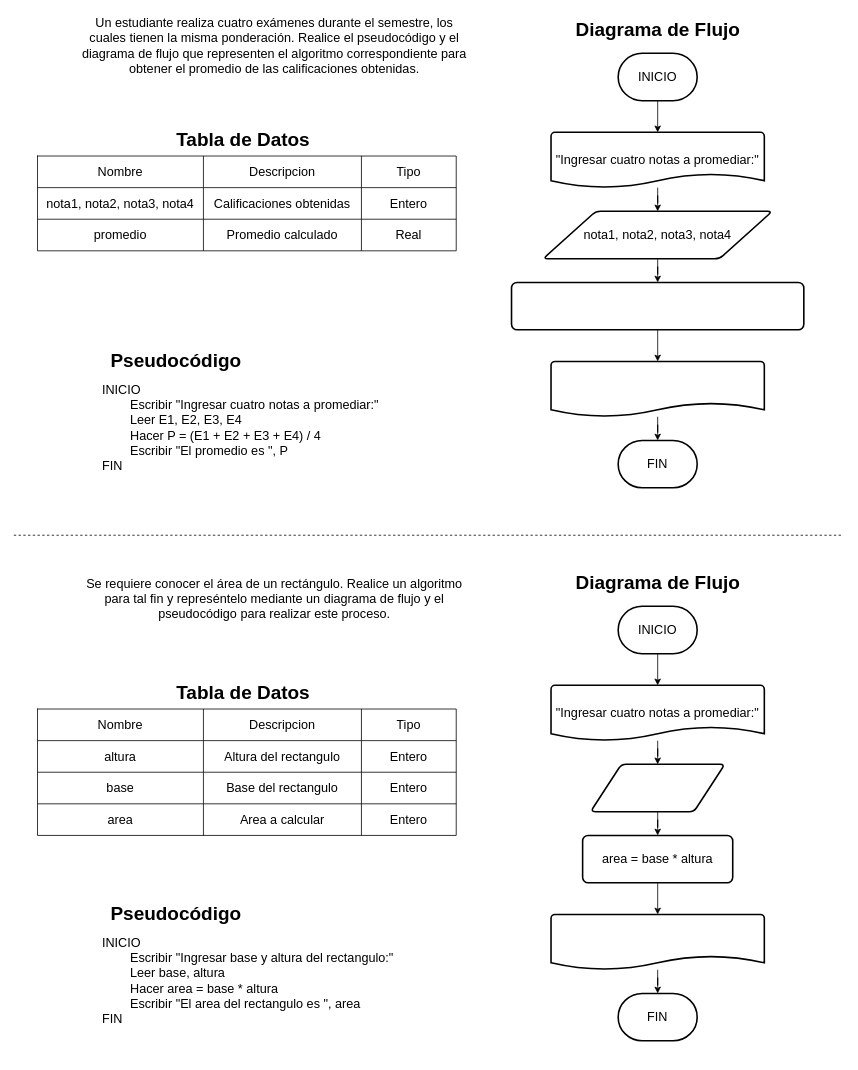
This 858x1070 diagram has some shape labels left out. The shapes that lost their labels are listed below. From the top down, each one's box as (x1, y1, x2, y2) in pixels, then its label:
(510, 281, 804, 330): promedio = ( nota1 + nota2 + nota3 + nota4 ) / 4
(550, 360, 765, 417): "El promedio es ", promedio
(589, 763, 725, 812): base, altura
(550, 913, 765, 970): "El area del rectangulo es ", area
